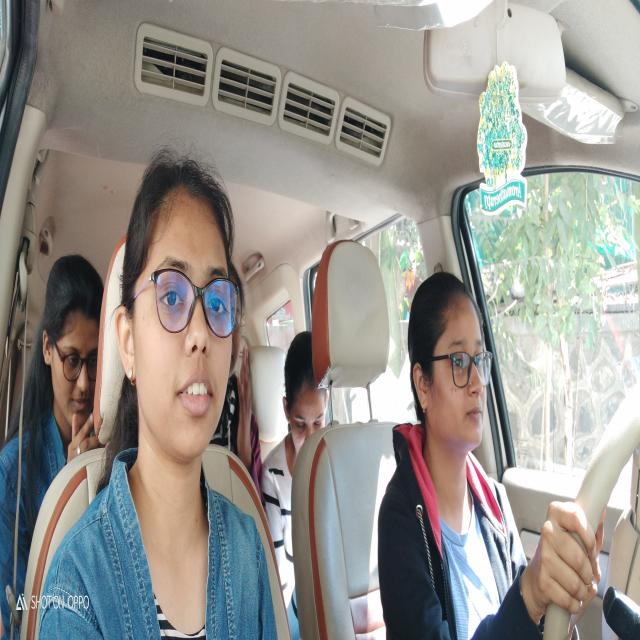person: (132, 172, 235, 461), (409, 288, 492, 452), (44, 261, 97, 434), (284, 344, 328, 434), (231, 267, 244, 383)
